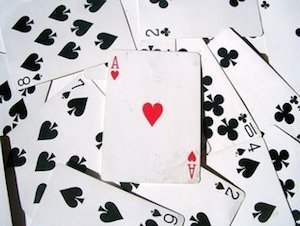AceOfHearts: (100, 49, 202, 186)
TenOfClubs: (193, 37, 261, 150)
